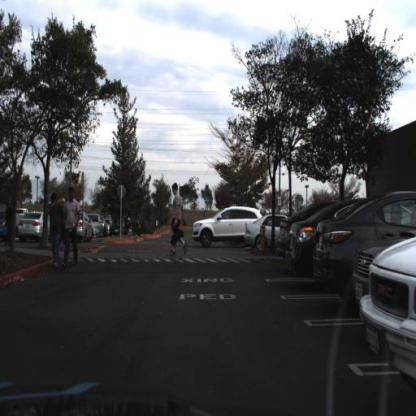car: (315, 192, 416, 299), (360, 224, 416, 395), (284, 211, 324, 275), (192, 208, 250, 251), (244, 212, 288, 252), (171, 181, 189, 260), (246, 216, 283, 250), (74, 210, 95, 241), (87, 212, 104, 243), (80, 211, 94, 244), (93, 215, 103, 239)
pedestrian: (167, 180, 190, 262), (44, 192, 64, 271), (65, 183, 81, 271)
